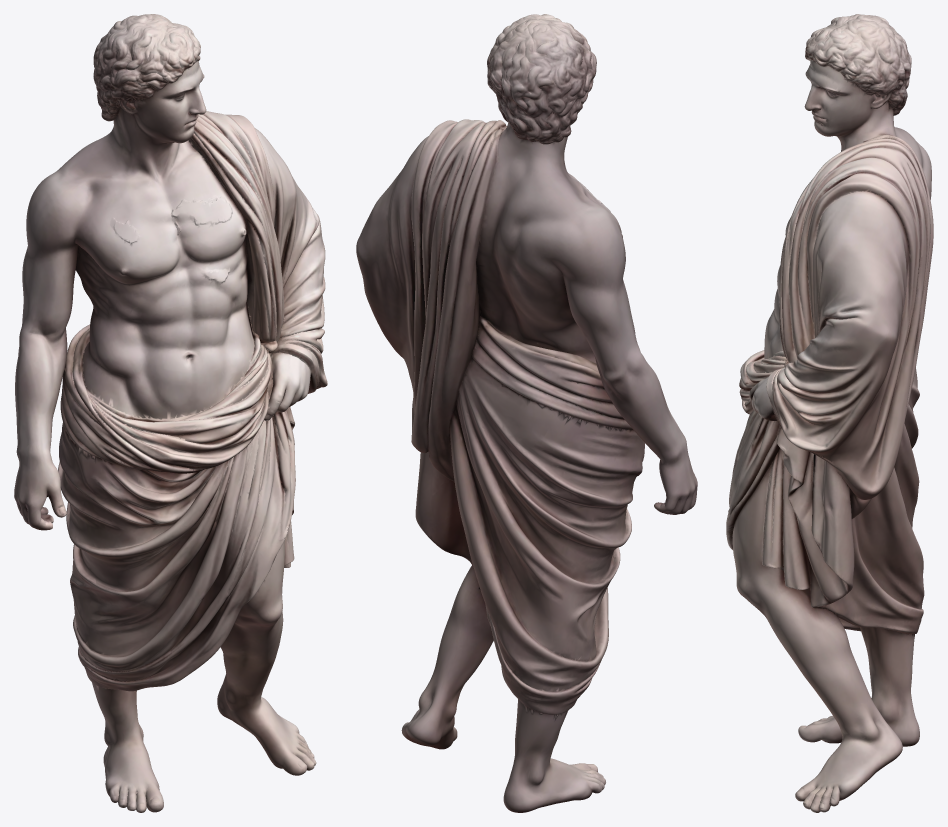
Rendered from statue_orator.glb.
The picture shows the model from 3 angles, left to right: view 1: azimuth 30°, elevation 25°; view 2: azimuth 150°, elevation 25°; view 3: azimuth 270°, elevation 25°; orthographic projection. The views are drawn at different scales.
Parts seen in each view (by area): view 1: tripo_node_9663666b-9031-4dd7-87f3-b717d1446452; view 2: tripo_node_9663666b-9031-4dd7-87f3-b717d1446452; view 3: tripo_node_9663666b-9031-4dd7-87f3-b717d1446452.
Part boxes in pixels (bbox=[...]): tripo_node_9663666b-9031-4dd7-87f3-b717d1446452: bbox=[14, 14, 327, 812]; tripo_node_9663666b-9031-4dd7-87f3-b717d1446452: bbox=[356, 14, 697, 812]; tripo_node_9663666b-9031-4dd7-87f3-b717d1446452: bbox=[726, 14, 933, 812].
Bounding box in the file's own units: 0.4166 × 0.9814 × 0.2522.
1 material, 1 textured.
